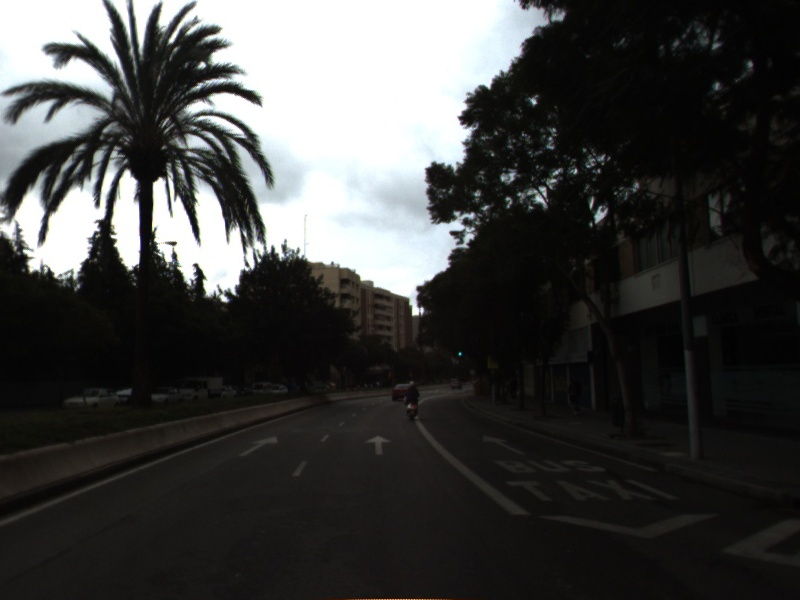STRAIGHT: (480, 433, 527, 456), (237, 434, 280, 458), (363, 433, 395, 457)
